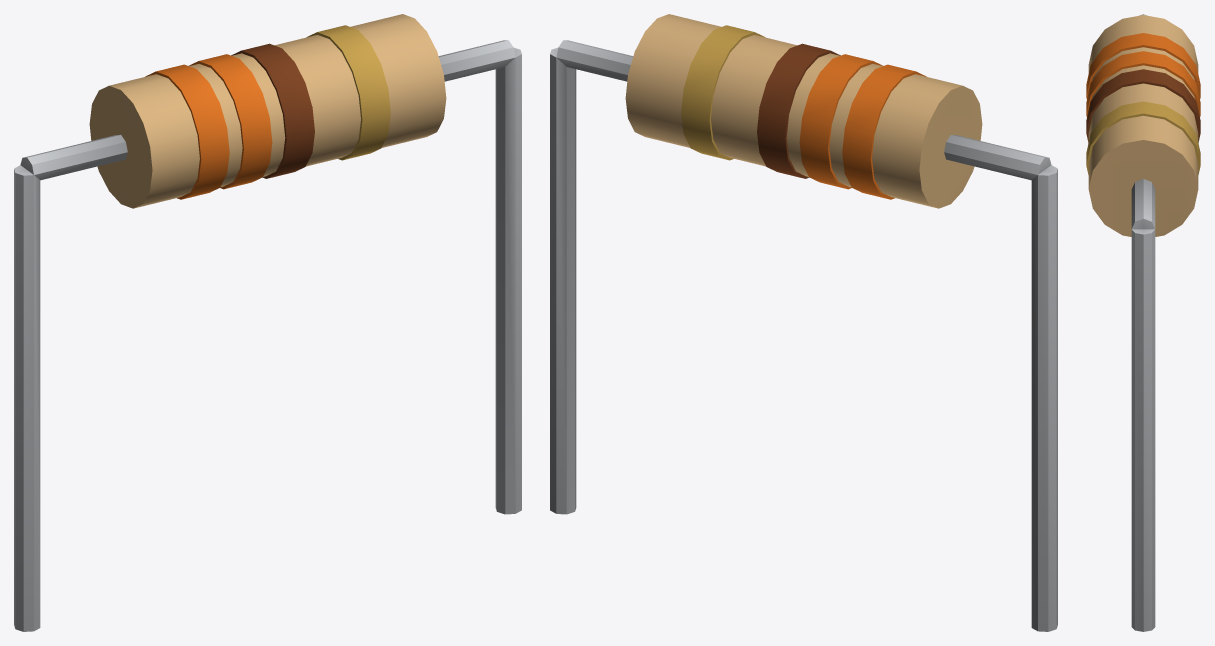
The model's file is proto-resistor.glb.
3 renders of one model, left to right at view 1: azimuth 30°, elevation 25°; view 2: azimuth 150°, elevation 25°; view 3: azimuth 270°, elevation 25°, orthographic. The views are drawn at different scales.
Parts seen in each view (by area): view 1: Body; view 2: Body; view 3: Body.
Part boxes in pixels (<box>): Body: <box>14,14,521,631</box>; Body: <box>550,14,1057,631</box>; Body: <box>1086,14,1200,631</box>.
Bounding box in the file's own units: 0.0107 × 0.0104 × 0.0024.
